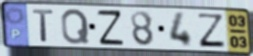4: (168, 10, 196, 49)
8: (129, 10, 155, 48)
Q: (60, 8, 92, 46)
T: (31, 8, 56, 44)
Z: (197, 12, 228, 49), (96, 9, 126, 46)
